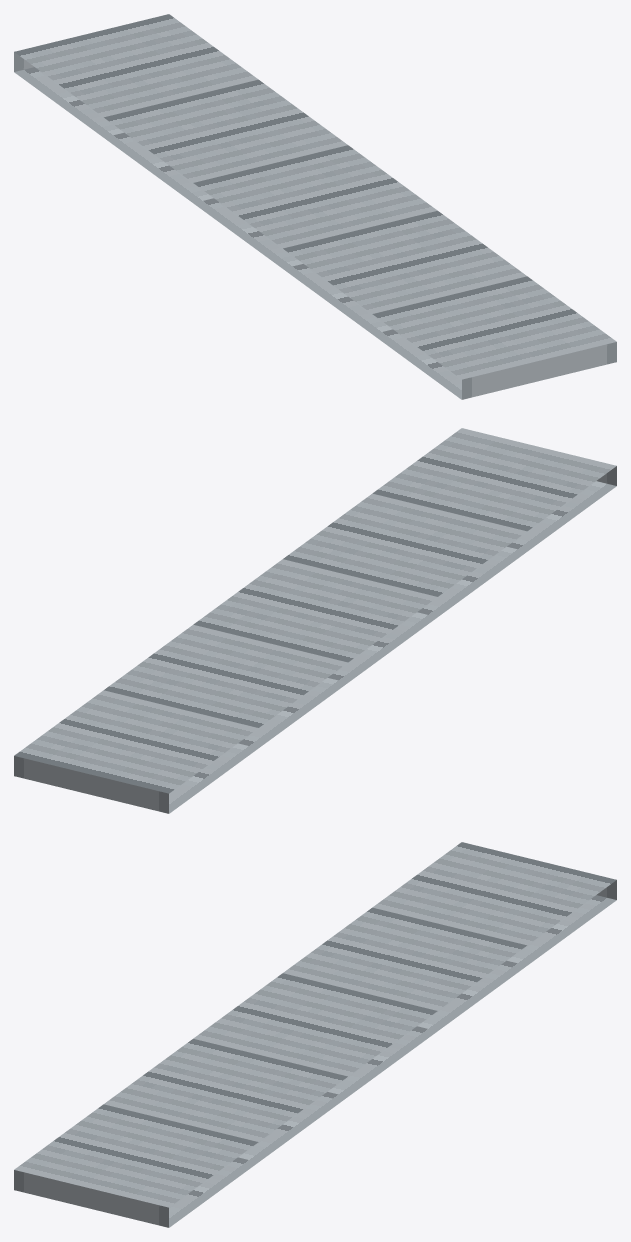
The model's file is commercial_run_5.obj.
The picture shows the model from 3 angles, top to bottom: view 1: azimuth 30°, elevation 25°; view 2: azimuth 150°, elevation 25°; view 3: azimuth 330°, elevation 25°; orthographic projection.
Visible parts, largest first — view 1: run; view 2: run; view 3: run.
Boxes of the visible parts, box(x1,y1,x2,y2) form: run: box(14, 14, 616, 399); run: box(14, 428, 616, 813); run: box(14, 842, 616, 1227).
Size of the model in its own units: 1 by 0.125 by 5.
